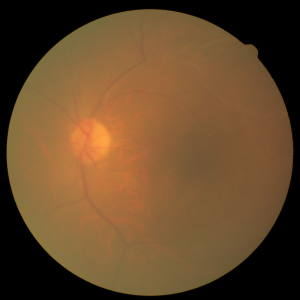cataract: (30, 91, 245, 207)
